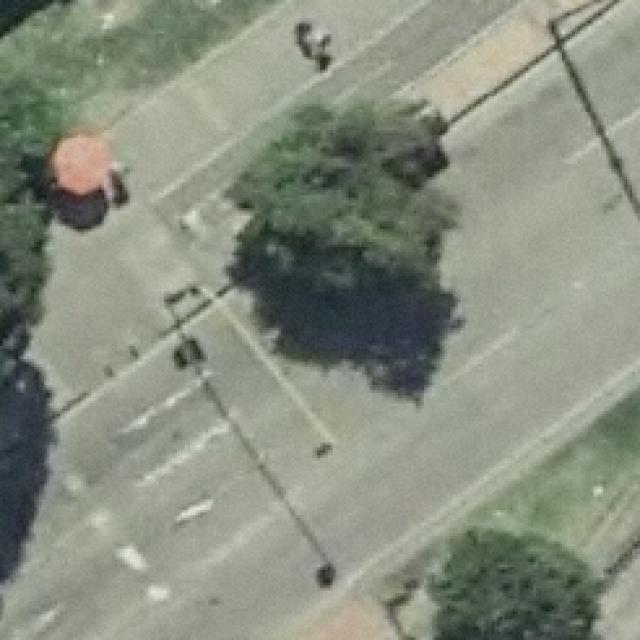vendedor_ambulante: (49, 132, 118, 200)
